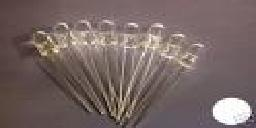LED: (98, 18, 121, 85), (180, 40, 211, 73), (72, 17, 97, 47), (124, 23, 137, 54)
